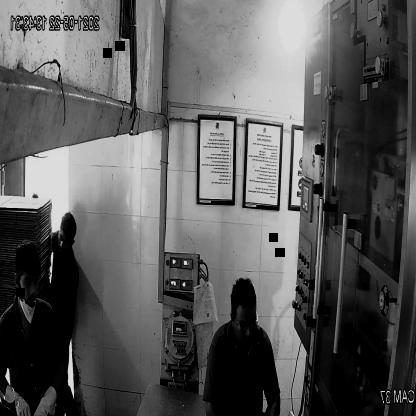goggles: (234, 316, 259, 333)
no_goggles: (18, 271, 40, 290)
